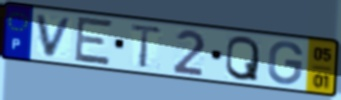2: (172, 27, 209, 78)
E: (72, 15, 115, 68)
G: (266, 39, 305, 87)
Q: (223, 34, 261, 83)
T: (128, 22, 165, 69)
V: (34, 13, 76, 59)
